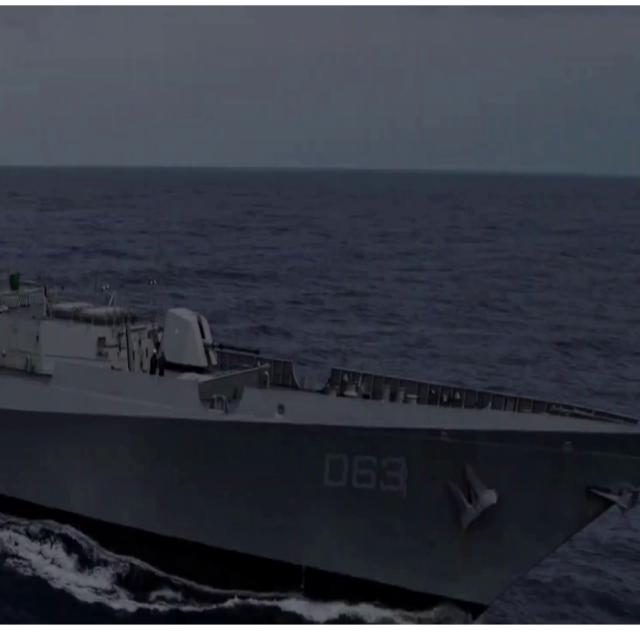OCR: (321, 444, 407, 508)
